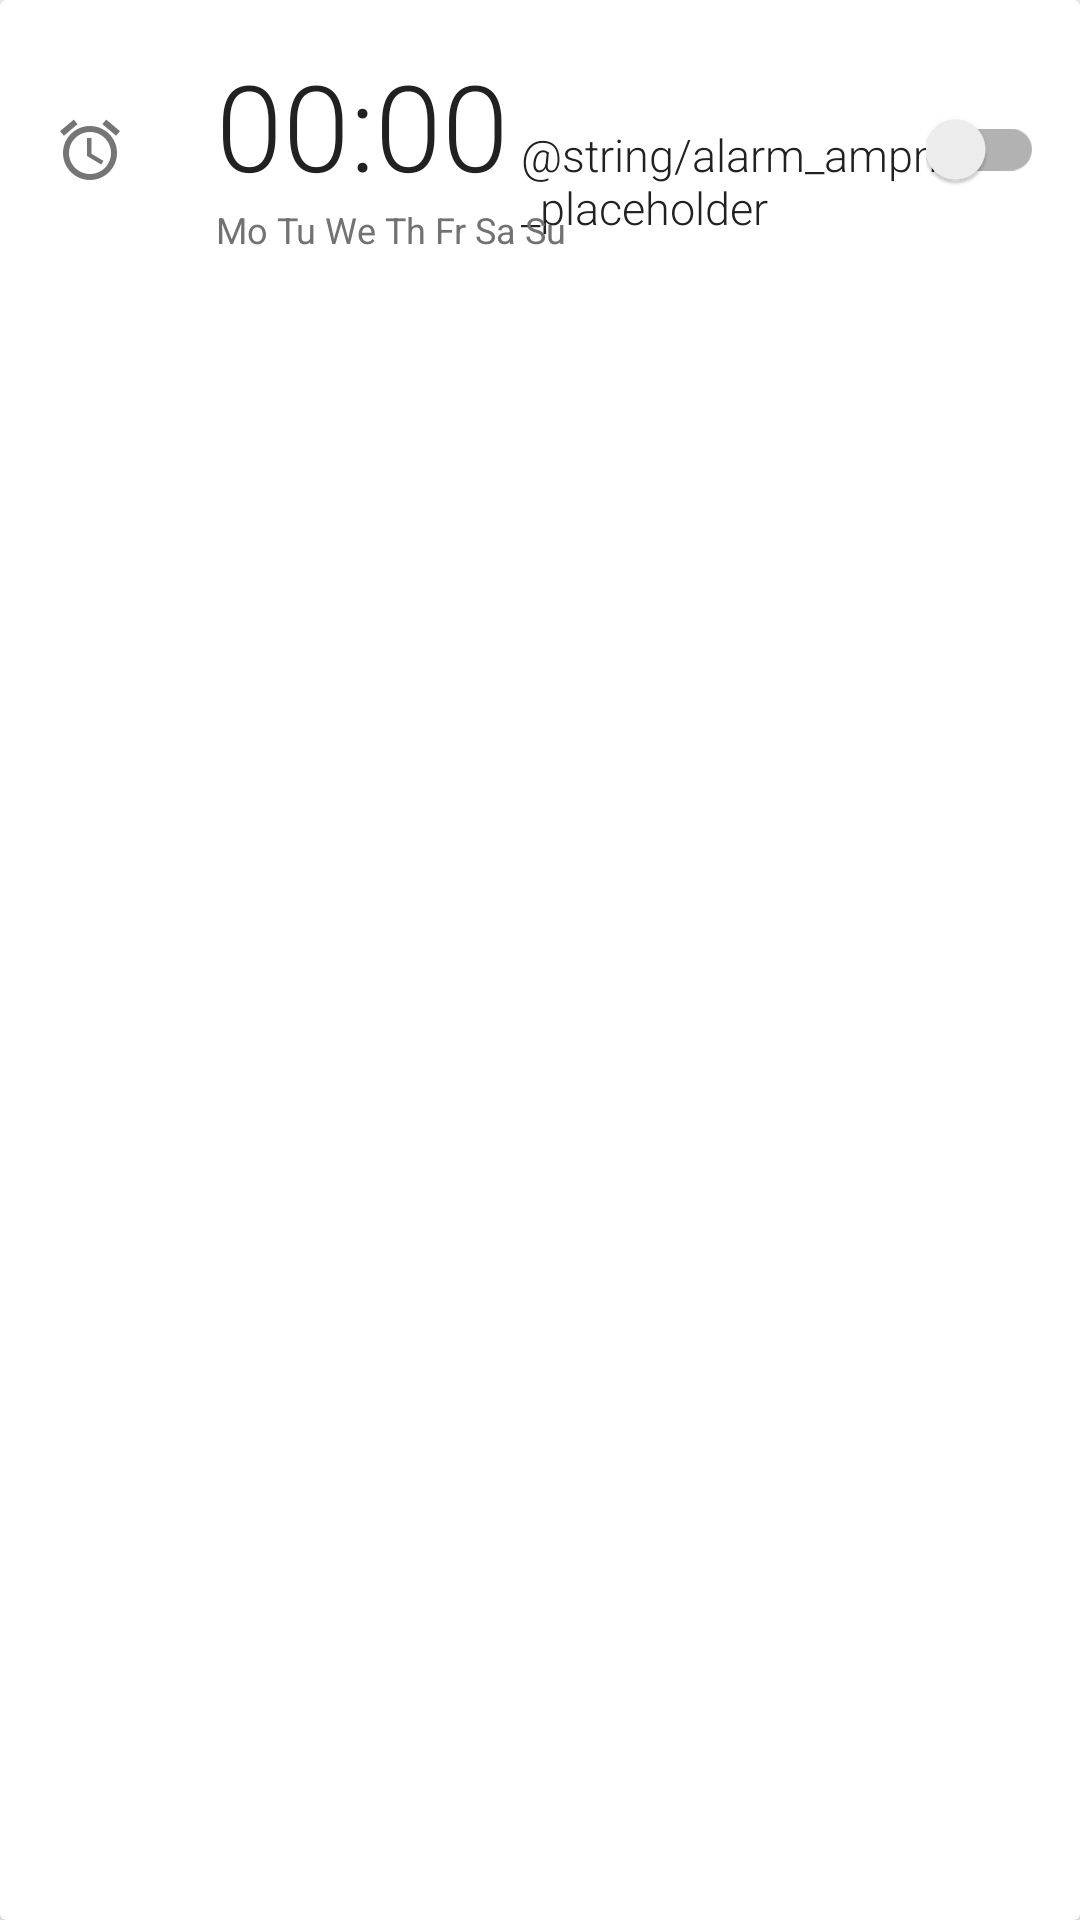

Screen size 1080w x 1920h. Icon name, then its box in pixels as BBox(x1, y1, x2, y2):
Choose a time for this alarm: BBox(60, 120, 120, 180)
